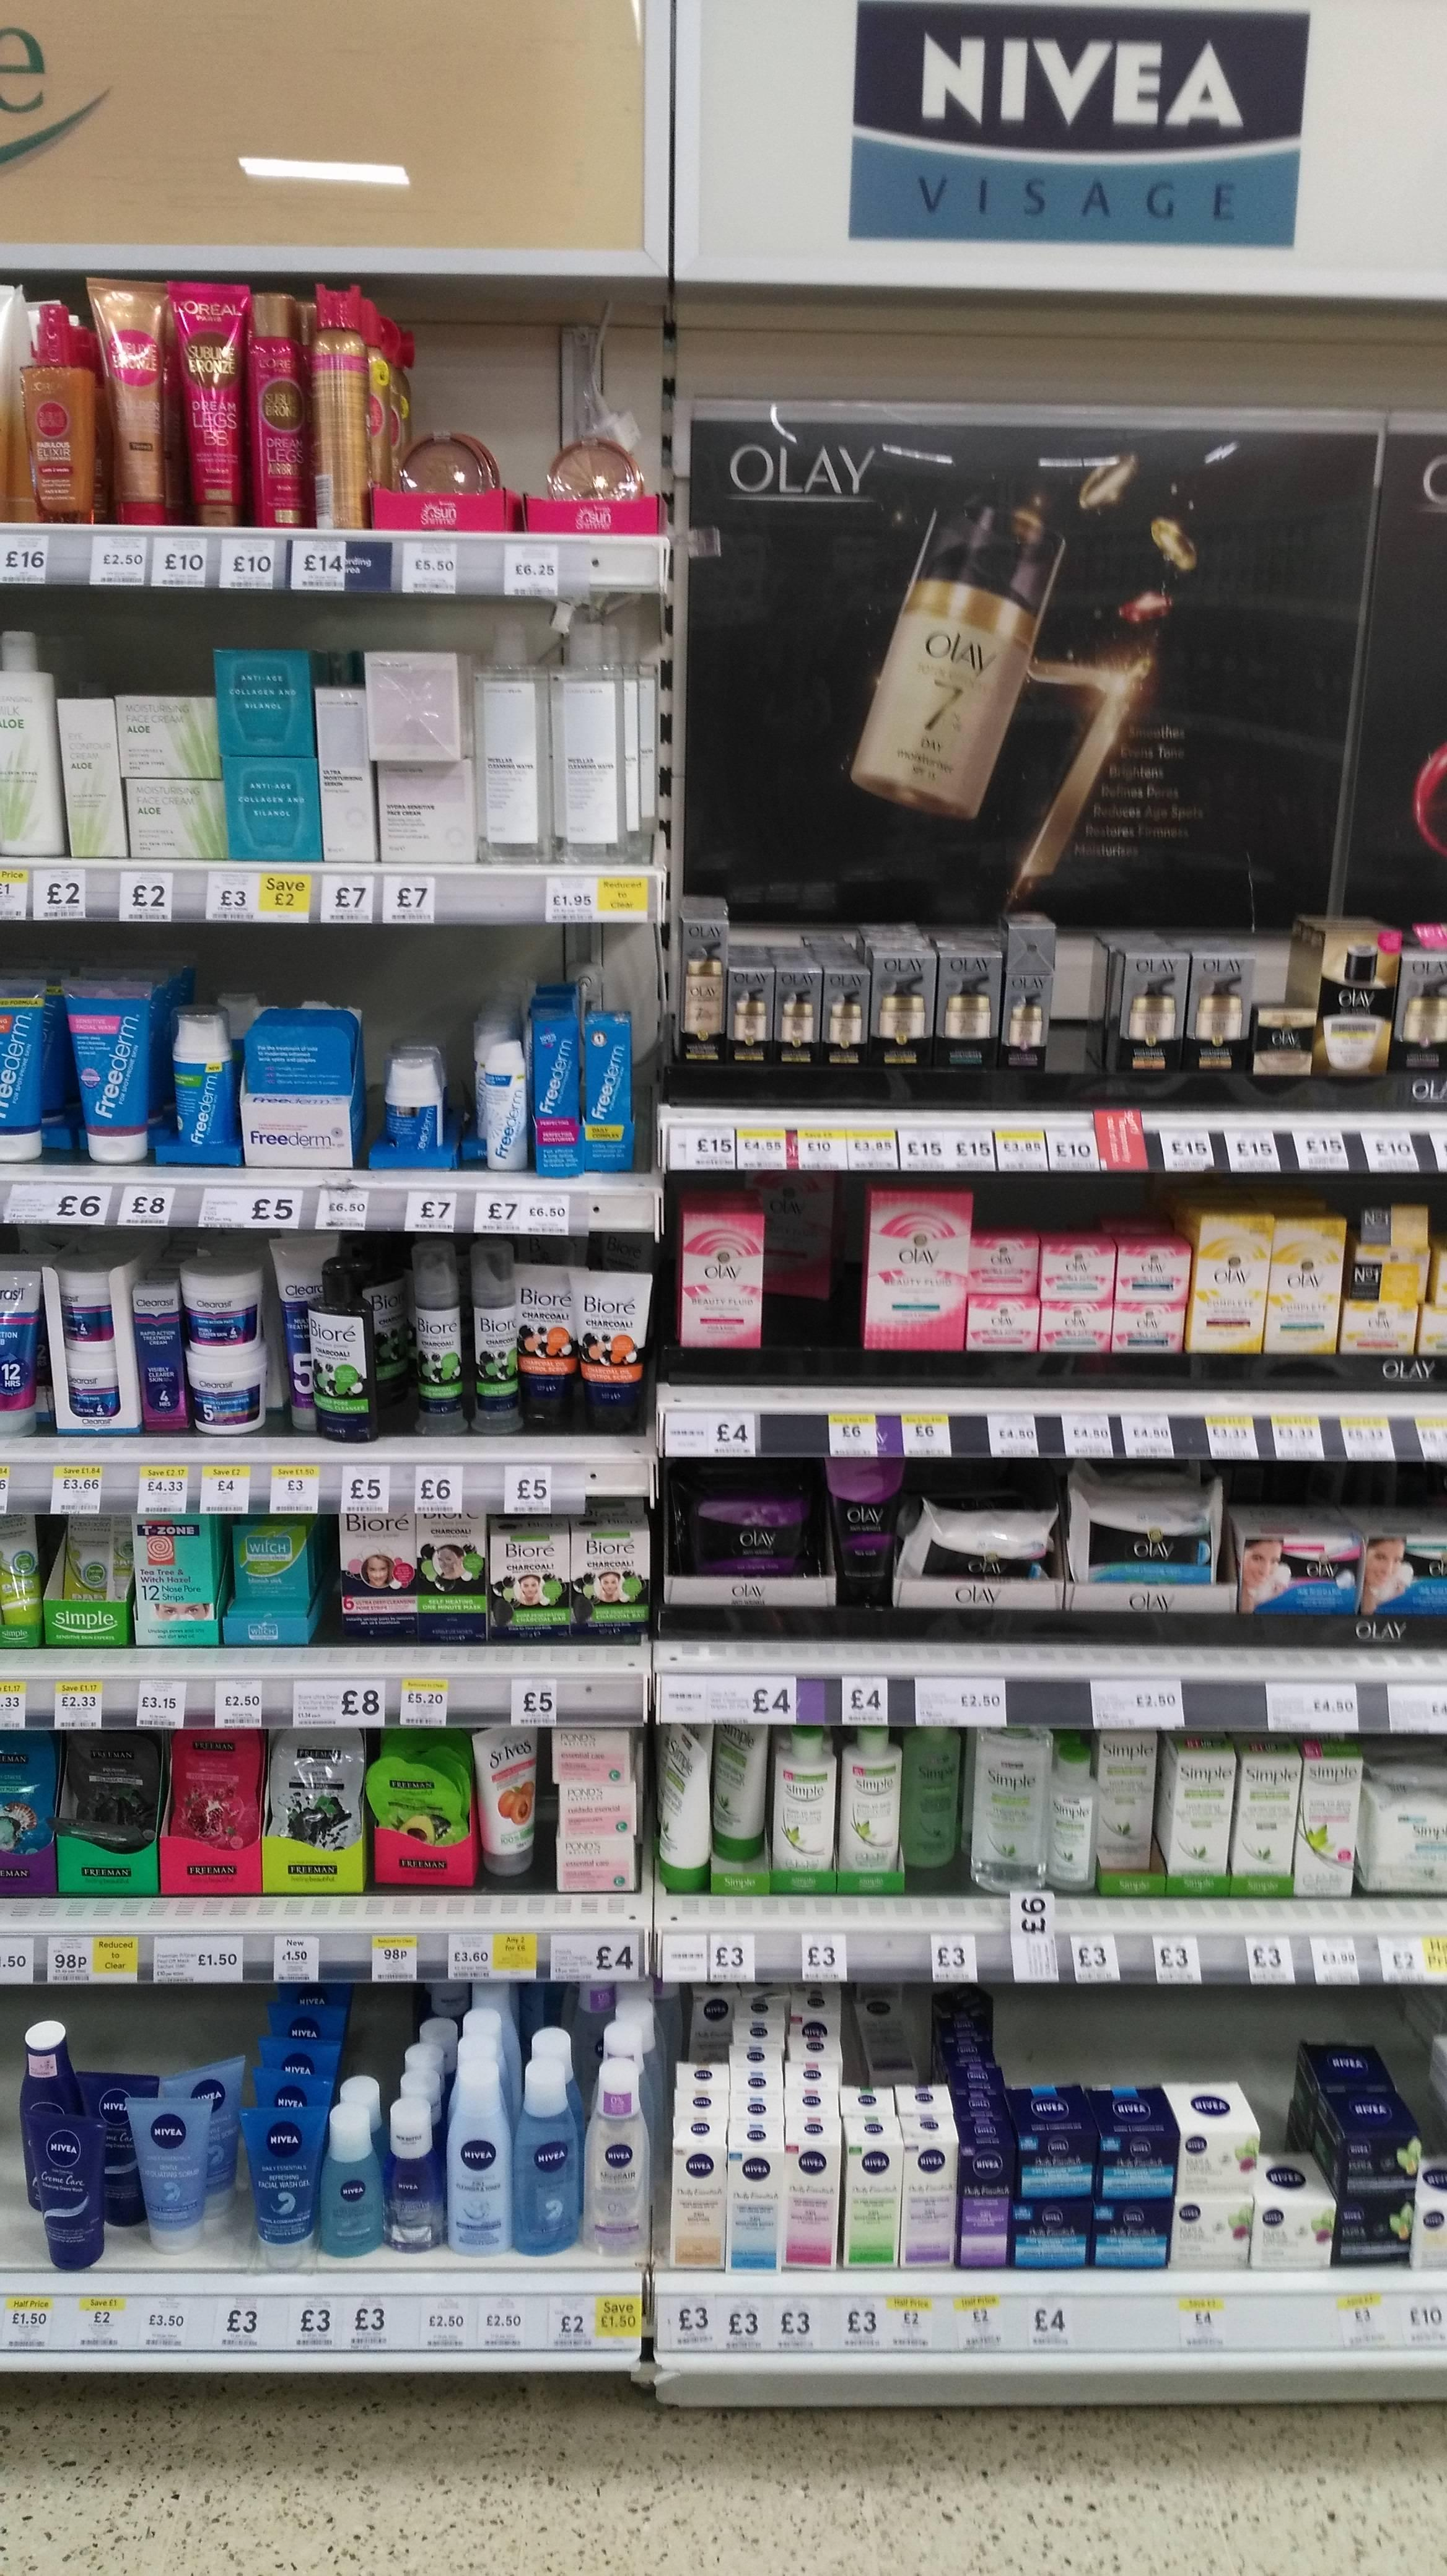misalignment: (900, 1499, 1065, 1614), (359, 639, 476, 775), (19, 2109, 110, 2277), (301, 1258, 377, 1442), (469, 1727, 545, 1881), (656, 1723, 715, 1897), (715, 1721, 769, 1877), (0, 1509, 50, 1649)
